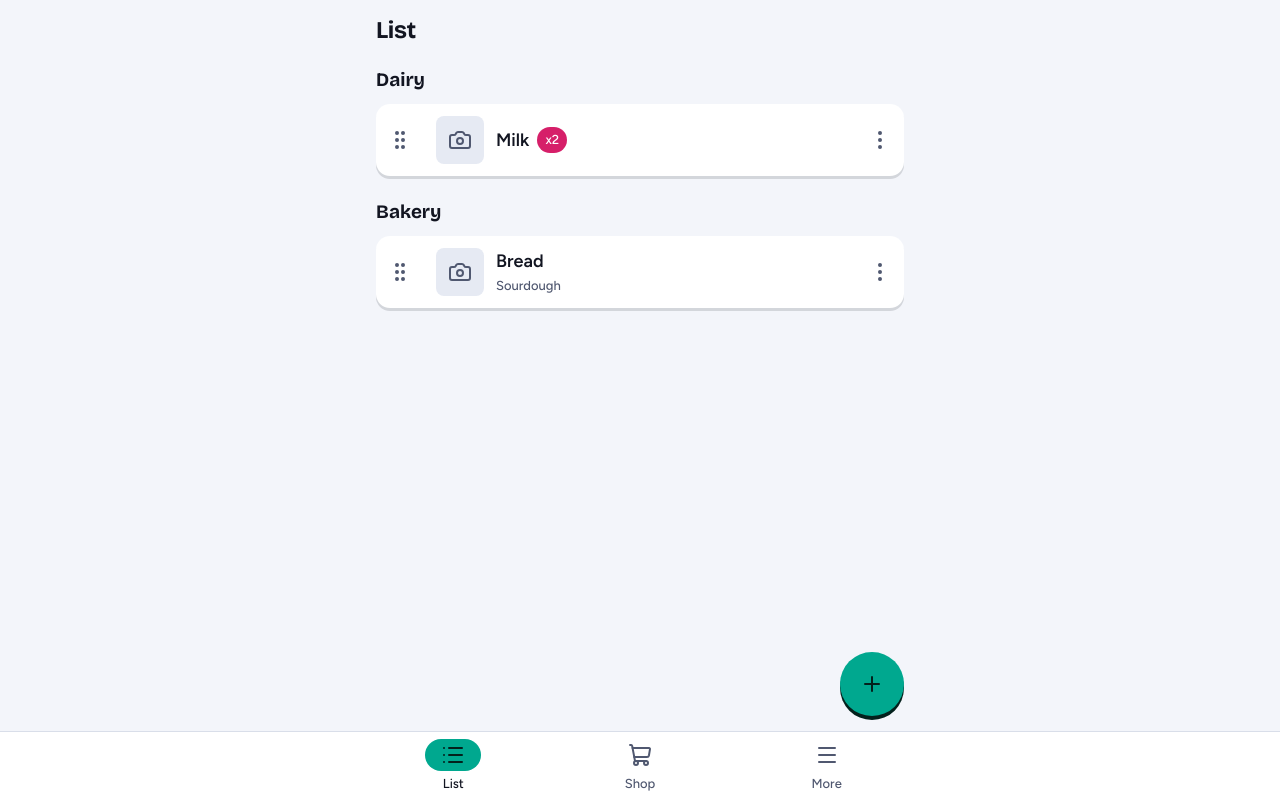
Add items drawer › opens from the Add item button with the text box and Add, adding no history entry
Click the button named "Add item": (872, 684) [840,652,904,716]
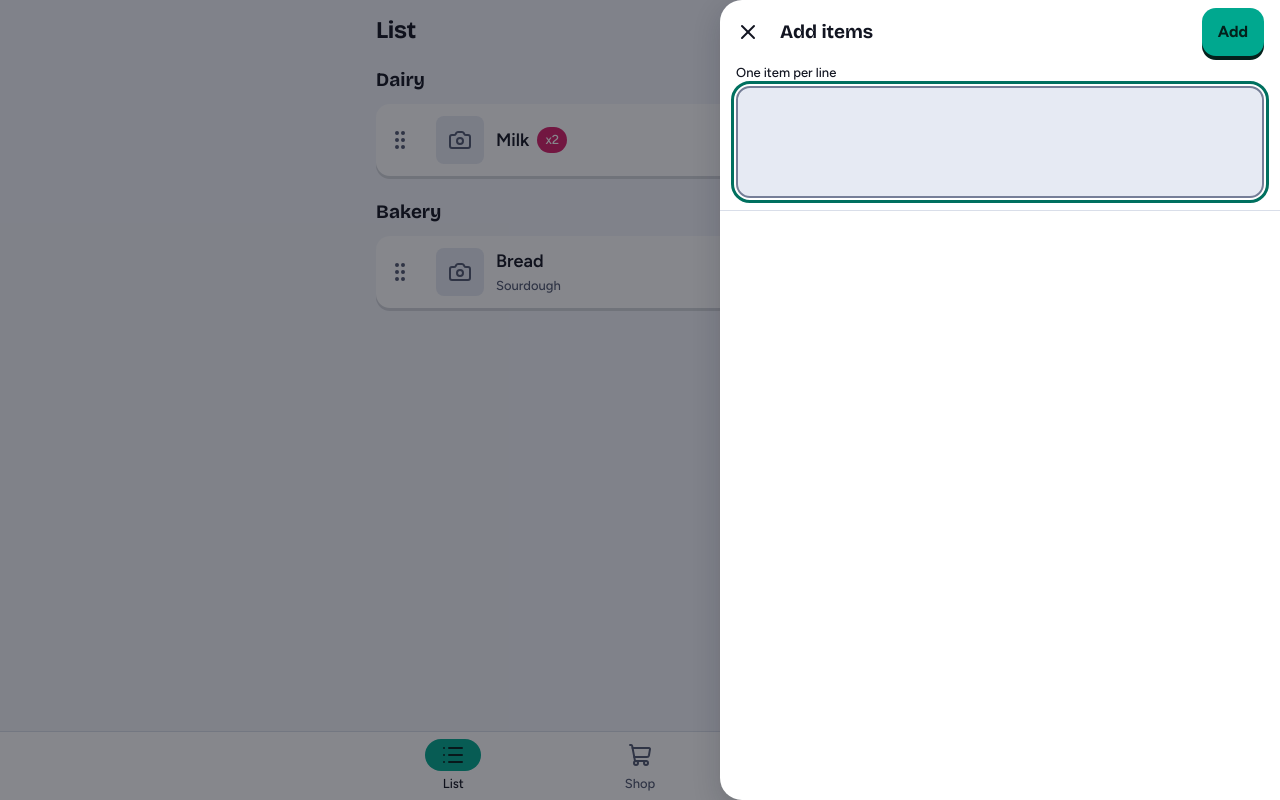
expect the text box labelled "One item per line" is shown: met, box [736,86,1264,198]
expect the button "Add" is shown: met, box [1202,8,1264,56]
Click the button named "Close": (748, 32) [724,8,772,56]
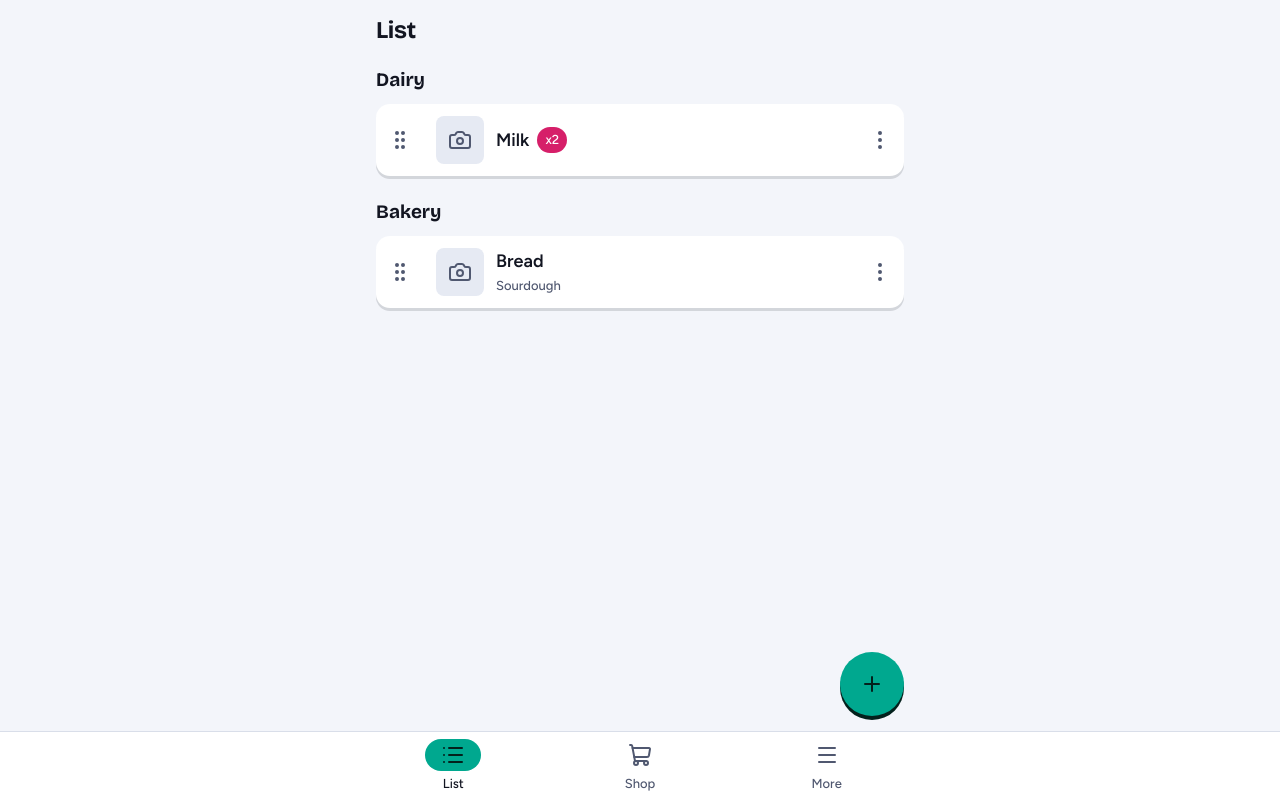
expect the dialog is gone: met
